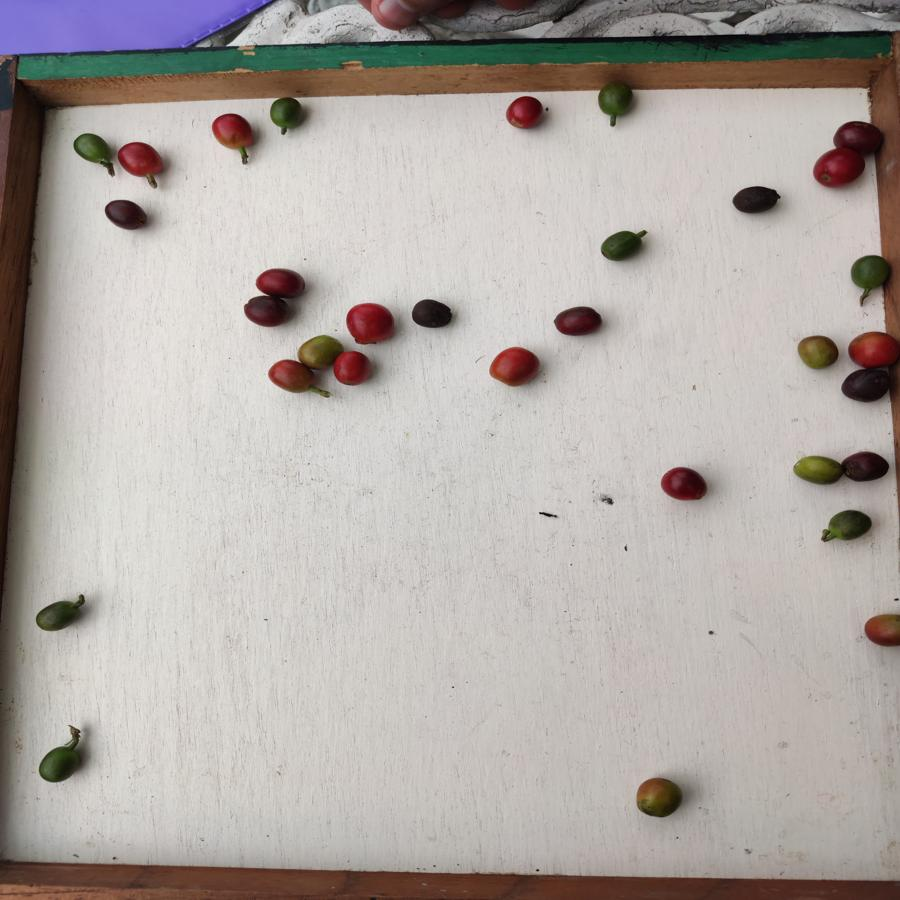Inmaduro: (845, 250, 896, 296), (33, 746, 85, 785), (32, 599, 86, 635), (828, 508, 877, 544), (594, 82, 639, 120), (72, 130, 113, 167), (266, 95, 306, 132), (600, 229, 643, 261)
Maduro: (118, 138, 166, 187), (343, 301, 395, 345), (490, 344, 541, 388), (844, 329, 900, 369), (810, 148, 867, 187), (210, 112, 257, 153), (506, 95, 548, 131), (334, 351, 373, 385)
Pinton: (633, 774, 686, 821), (791, 450, 844, 490), (268, 360, 315, 393), (293, 335, 335, 371), (799, 332, 839, 369), (863, 610, 900, 648)
Sobremaduro: (659, 465, 708, 505), (252, 265, 312, 297), (839, 369, 893, 403), (101, 197, 150, 233), (552, 305, 605, 338), (841, 448, 892, 481), (731, 184, 783, 214), (831, 119, 881, 150), (410, 297, 454, 330), (245, 296, 288, 328)
